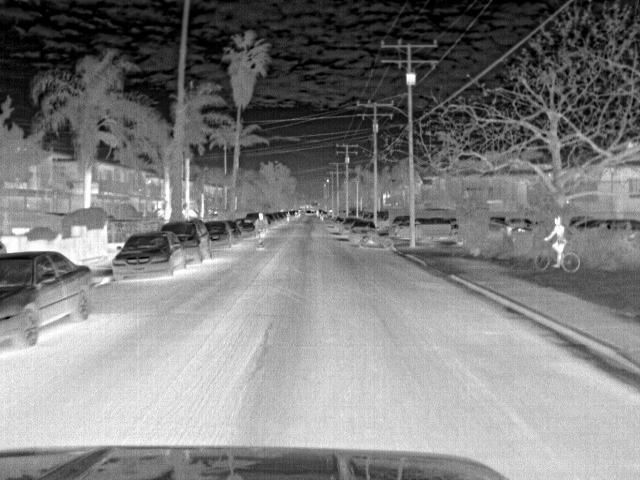car: (0, 248, 97, 354), (107, 230, 184, 281), (160, 220, 209, 268), (202, 220, 238, 257), (349, 220, 381, 244), (235, 216, 258, 241), (489, 220, 516, 234), (339, 218, 358, 237), (264, 212, 277, 227)
person: (541, 214, 571, 270), (254, 212, 269, 245)
